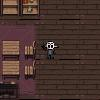Hide: (0, 81, 20, 100)
Jason: (40, 40, 59, 59)
Obstacle: (0, 60, 20, 81), (0, 40, 20, 60), (20, 60, 38, 81), (20, 0, 40, 18), (0, 0, 20, 17), (20, 41, 37, 60)
